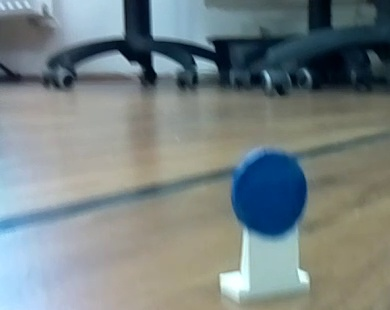circle: (211, 134, 323, 305)
